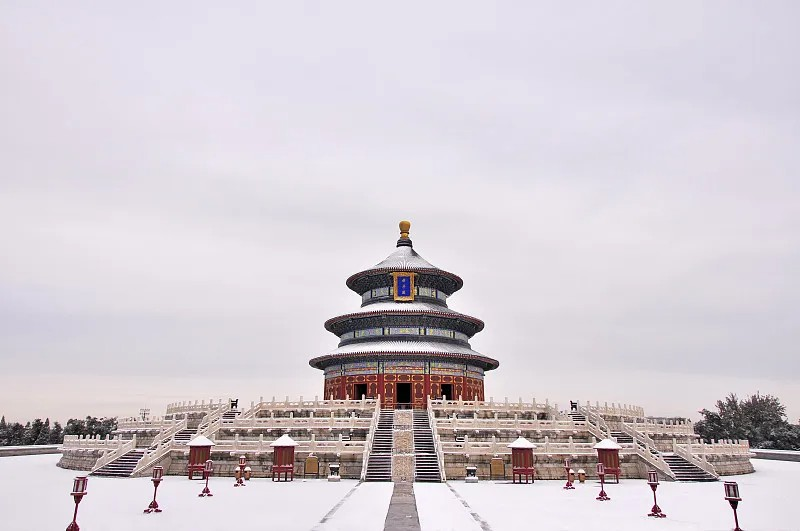Heaven: (306, 220, 501, 409)
